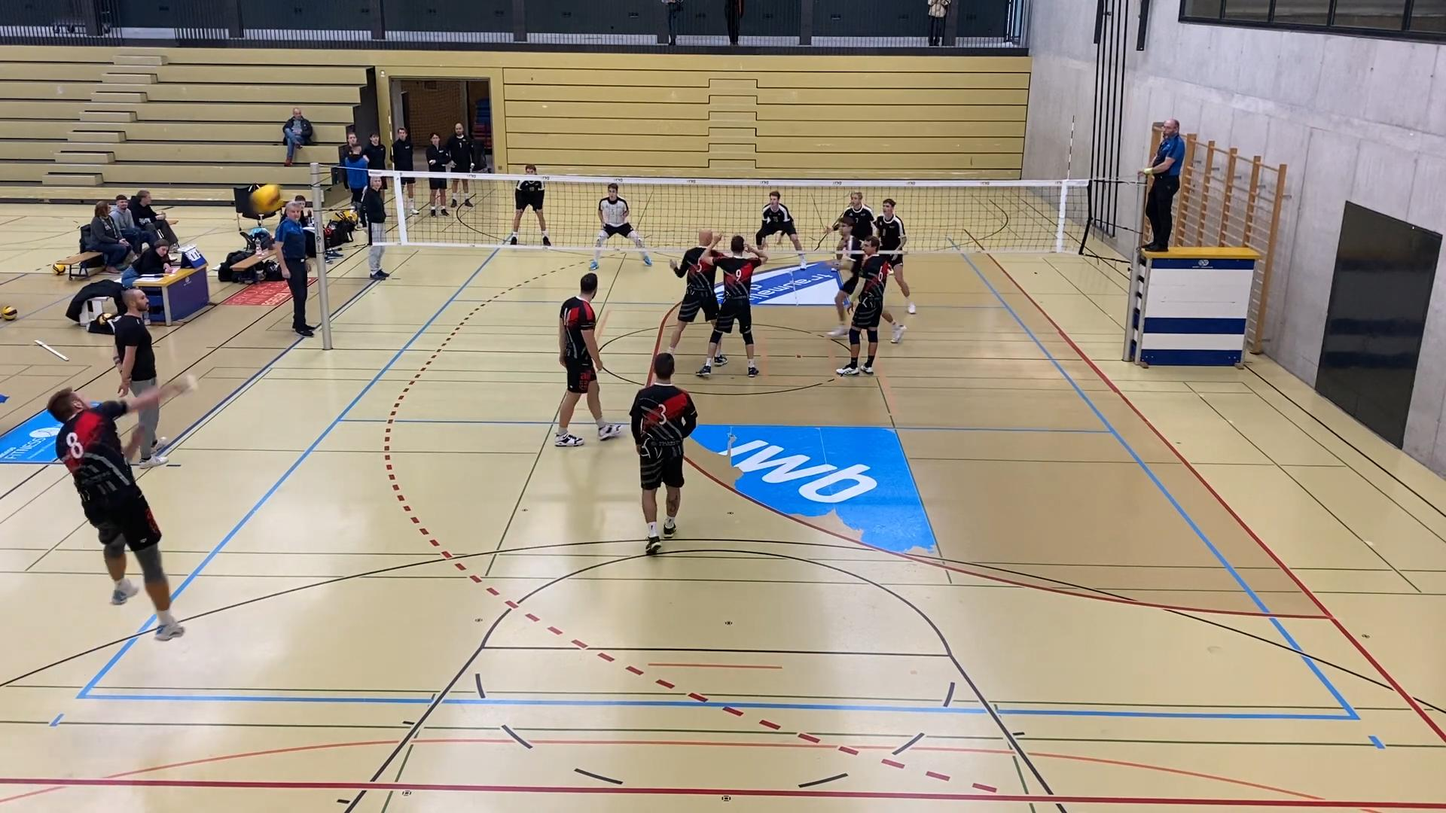battuta: (39, 359, 207, 638)
